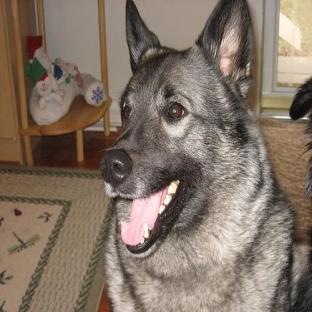Animal: (101, 0, 311, 311)
